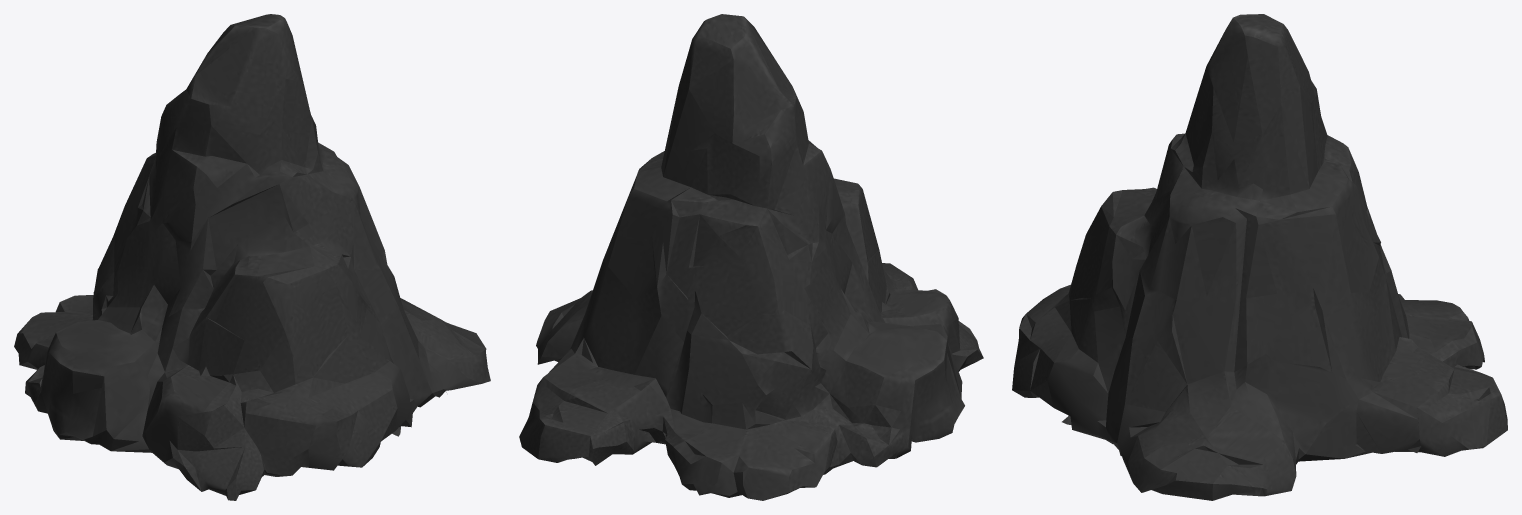
File: sea-stack-tall.lod.glb
The picture shows the model from 3 angles, left to right: view 1: azimuth 30°, elevation 25°; view 2: azimuth 150°, elevation 25°; view 3: azimuth 270°, elevation 25°; orthographic projection. The views are drawn at different scales.
Parts seen in each view (by area): view 1: output_unwrapped; view 2: output_unwrapped; view 3: output_unwrapped.
Boxes of the visible parts, bbox=[...] form: output_unwrapped: bbox=[14, 14, 490, 500]; output_unwrapped: bbox=[519, 14, 983, 500]; output_unwrapped: bbox=[1012, 14, 1507, 500].
Size of the model in its own units: 1.83 by 1.58 by 1.83.
Materials: 1 (1 with a texture image).
